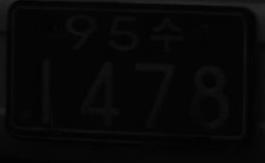1: (29, 62, 68, 132)
4: (78, 60, 120, 130)
5: (103, 13, 141, 52)
7: (131, 60, 176, 131)
8: (188, 64, 231, 130)
9: (65, 13, 97, 47)
수: (145, 14, 179, 47)
